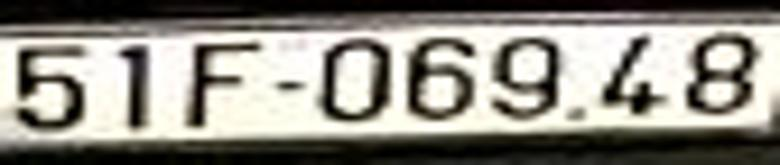-: (276, 82, 300, 90)
.: (569, 110, 584, 118)
0: (322, 36, 390, 121)
1: (121, 44, 148, 126)
4: (603, 34, 665, 115)
5: (17, 44, 83, 129)
6: (406, 37, 474, 120)
8: (686, 33, 757, 115)
9: (492, 38, 556, 120)
F: (188, 46, 257, 125)
